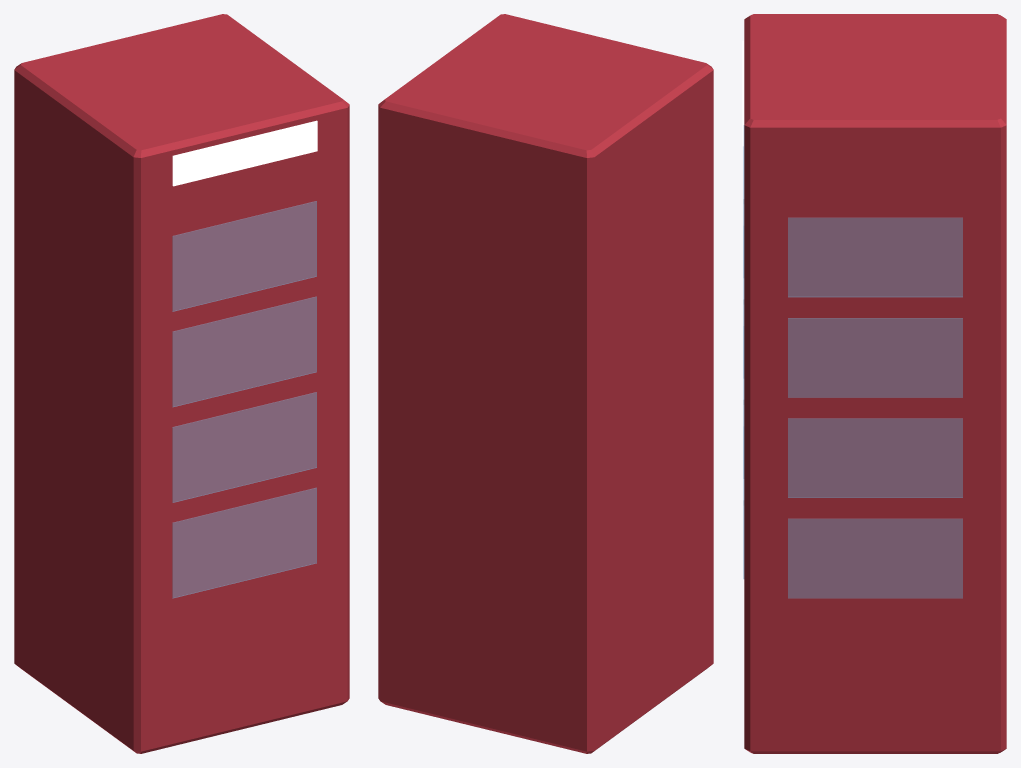
File: phone_booth.glb
3 views of the same model, side by side, from view 1: azimuth 30°, elevation 25°; view 2: azimuth 150°, elevation 25°; view 3: azimuth 270°, elevation 25° (orthographic). The views are drawn at different scales.
Parts seen in each view (by area): view 1: phone_booth; view 2: phone_booth; view 3: phone_booth.
Boxes of the visible parts, box(x1,y1,x2,y2) form: phone_booth: box(14, 14, 349, 753); phone_booth: box(378, 14, 713, 753); phone_booth: box(742, 14, 1006, 753).
Size of the model in its own units: 0.9035 by 2.4 by 0.9075.
